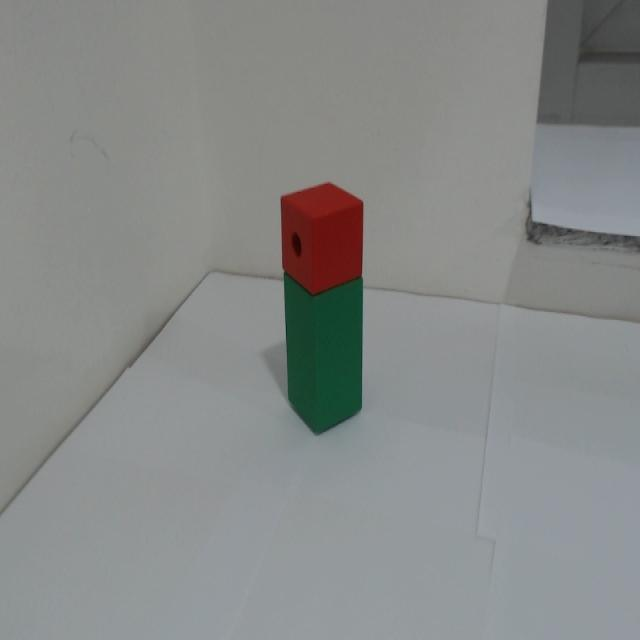cube: (273, 152, 390, 292)
